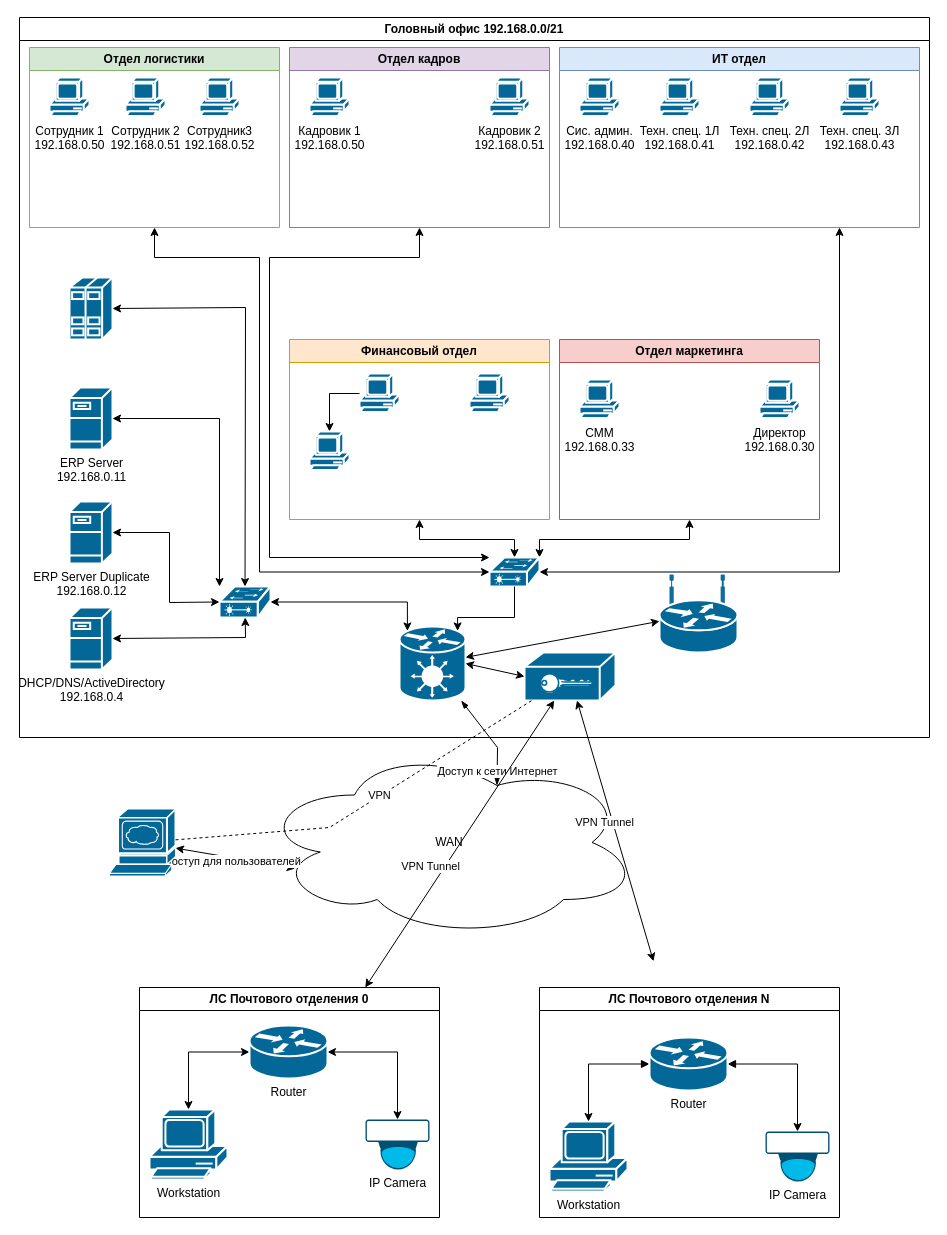
Image size: 947x1235. Some labels were removed from this diagram. The shapes that lost their labels are listed below. From the top down, each one's centre as x and y in pixels, then its label:
At (x=90, y=308): "DB (Oracle, Postgres) 192.168.0.10".
At (x=379, y=393): "Бухгалтер 192.168.0.21".
At (x=489, y=393): "Директор 192.168.0.20".
At (x=329, y=451): "Аналитик 192.168.0.22".
At (x=514, y=571): "L2 Switch 24-port".
At (x=244, y=601): "L2 Switch 16-port".
At (x=698, y=613): "Mesh Wi-Fi 192.168.0.3".
At (x=432, y=663): "Gateway 192.168.0.1".
At (x=569, y=676): "VPN Gateway 192.168.0.2".
At (x=142, y=842): "Web-Site on Dedicated Server".
